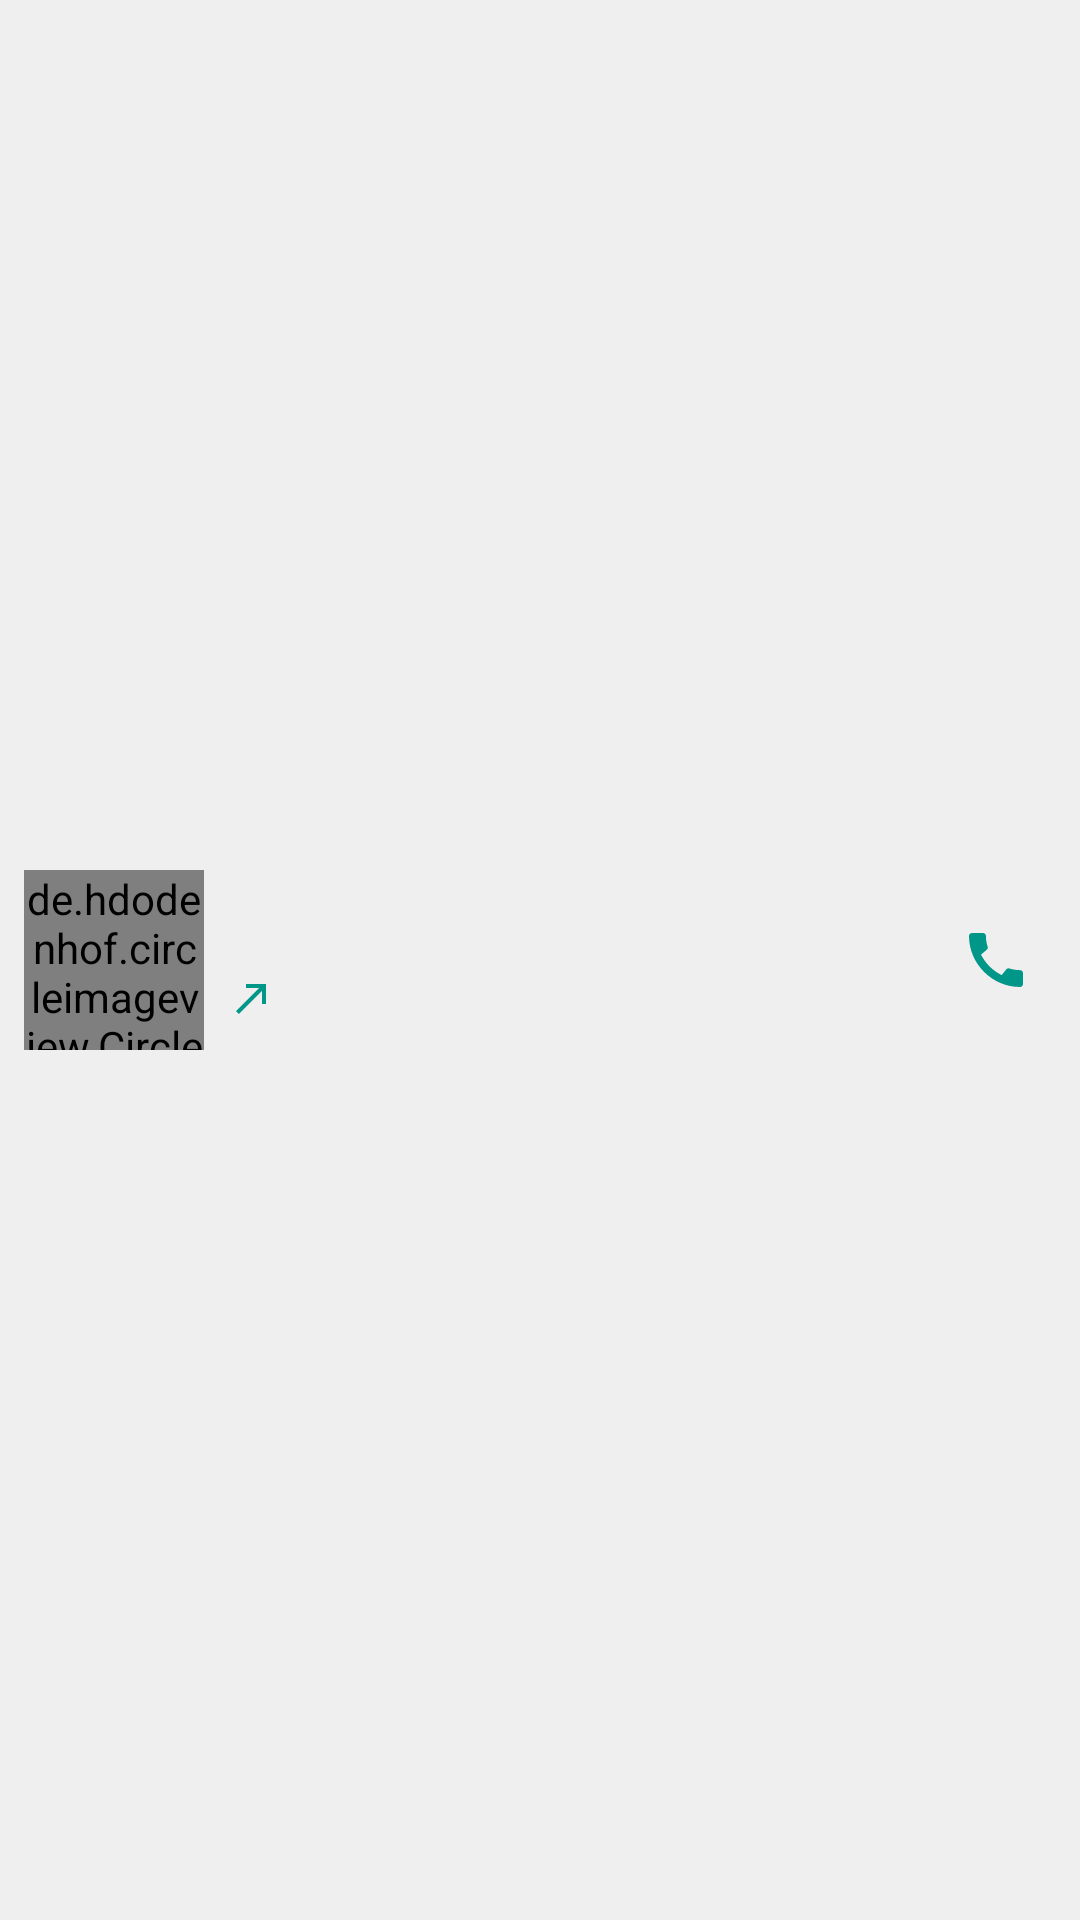

Screen size 1080px×1920px. Icon name, then its center in pixels as [x,y]:
call: [996,960]
call made: [251,999]
